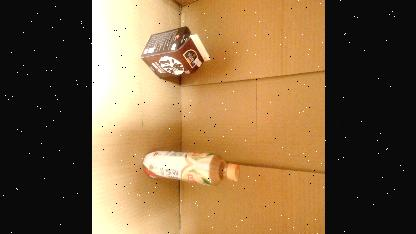Plastic Bottle: (142, 150, 240, 186)
